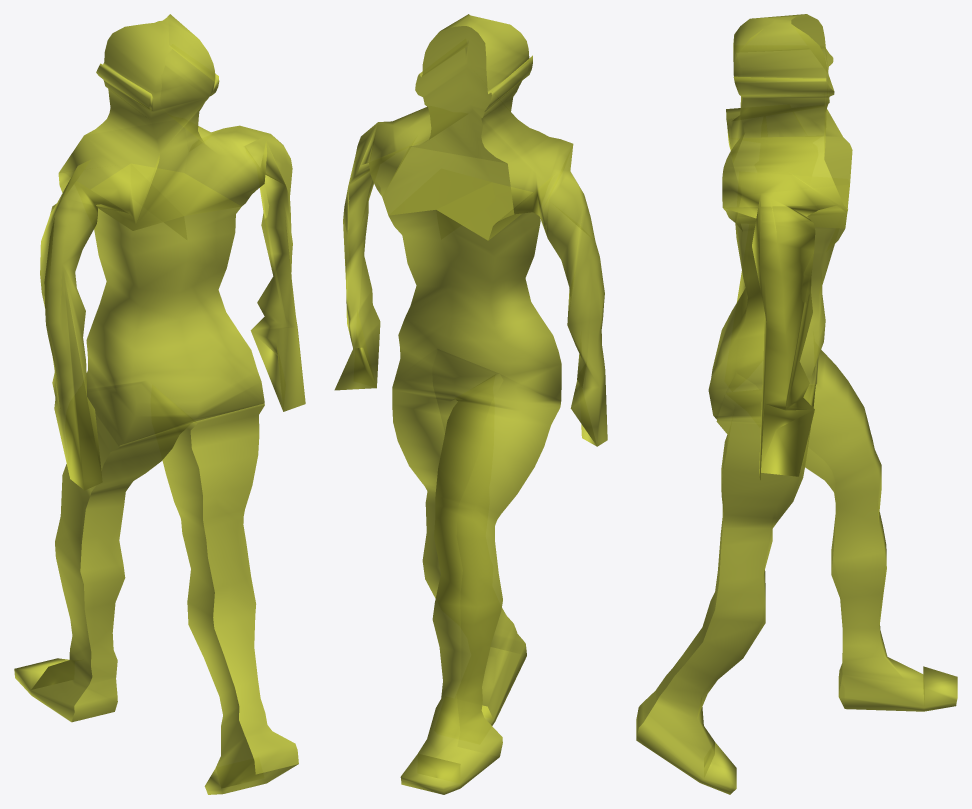
Rendered from woman_000035.obj.
The picture shows the model from 3 angles, left to right: view 1: azimuth 30°, elevation 25°; view 2: azimuth 150°, elevation 25°; view 3: azimuth 270°, elevation 25°; orthographic projection.
Parts seen in each view (by area): view 1: Cube_Cube.001; view 2: Cube_Cube.001; view 3: Cube_Cube.001.
Boxes of the visible parts, x1,y1,x2,y2 form: Cube_Cube.001: [14, 14, 305, 794]; Cube_Cube.001: [334, 14, 607, 794]; Cube_Cube.001: [636, 14, 957, 794].
Bounding box in the file's own units: 3.63 × 10.25 × 4.01.
